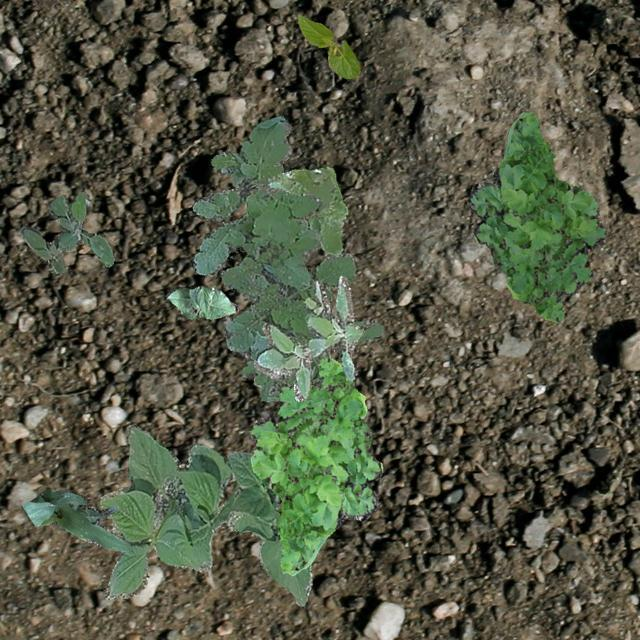crop: (98, 424, 310, 606), (20, 486, 130, 550), (296, 13, 359, 78), (165, 286, 238, 318)
weed: (190, 116, 384, 400), (466, 110, 606, 322), (248, 356, 382, 574), (252, 274, 362, 400), (18, 190, 114, 272), (268, 166, 346, 254)
